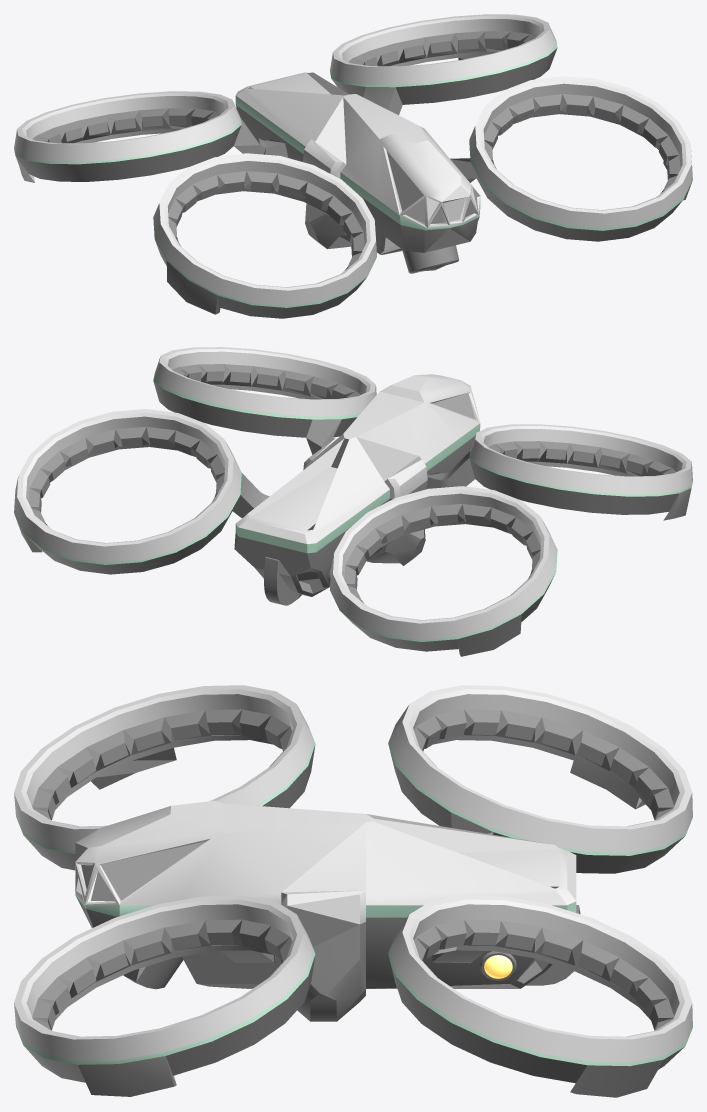
File: DES_drone.7895faf2.glb
3 views of the same model, one above another, from view 1: azimuth 30°, elevation 25°; view 2: azimuth 150°, elevation 25°; view 3: azimuth 270°, elevation 25° (orthographic). The views are drawn at different scales.
Parts seen in each view (by area): view 1: drone_01.1-Mat, drone_01.1-Mat.2, drone_01.1-Mat.1; view 2: drone_01.1-Mat, drone_01.1-Mat.2, drone_01.1-Mat.1; view 3: drone_01.1-Mat, drone_01.1-Mat.2, drone_01.1-Mat.1.
Boxes of the visible parts, left/top/right/bottom form: drone_01.1-Mat: left=14, top=14, right=692, bottom=305; drone_01.1-Mat.2: left=15, top=31, right=692, bottom=318; drone_01.1-Mat.1: left=14, top=39, right=692, bottom=307; drone_01.1-Mat: left=14, top=347, right=692, bottom=649; drone_01.1-Mat.2: left=14, top=364, right=691, bottom=656; drone_01.1-Mat.1: left=14, top=372, right=692, bottom=641; drone_01.1-Mat: left=14, top=685, right=692, bottom=1093; drone_01.1-Mat.2: left=23, top=709, right=684, bottom=1097; drone_01.1-Mat.1: left=15, top=723, right=692, bottom=1066.
Size of the model in its own units: 1.16 by 0.2888 by 0.9688.
